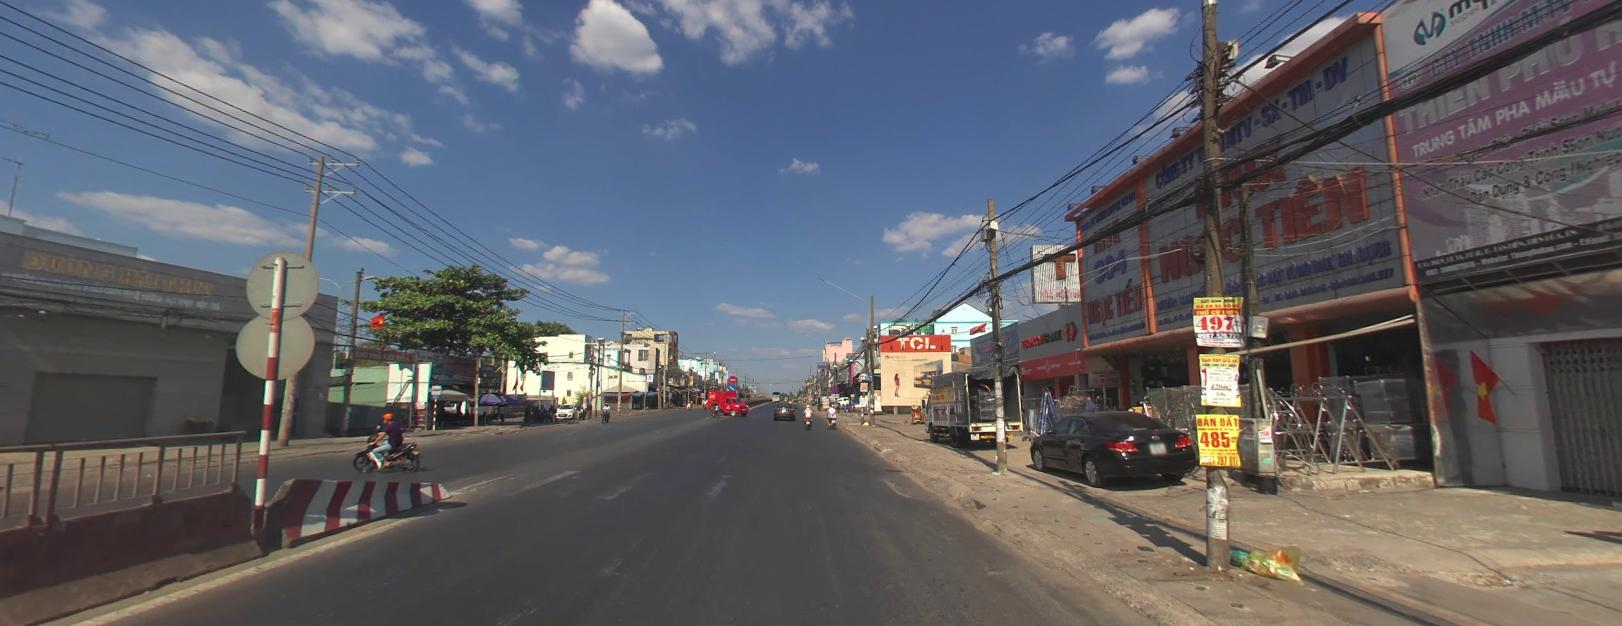Cam dung va do: (831, 384, 838, 391)
Cam nguoc chieu: (728, 374, 735, 381)
Hieu lenh: (728, 382, 735, 389)
